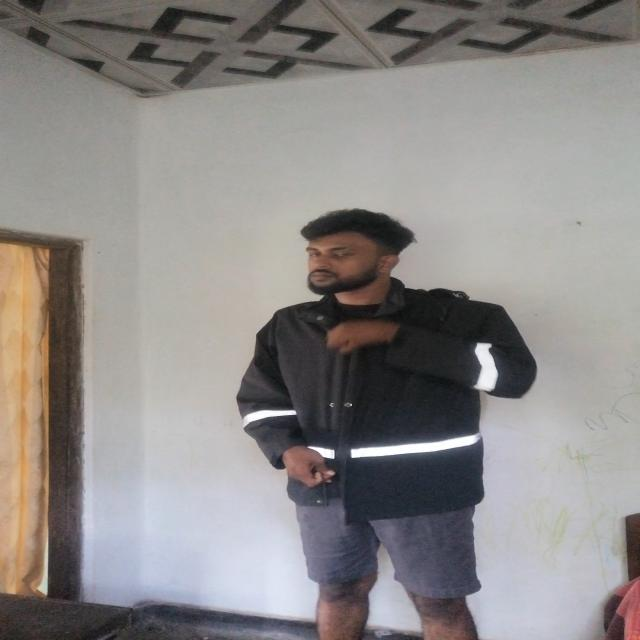Jacket_Wearer: (231, 282, 565, 487)
